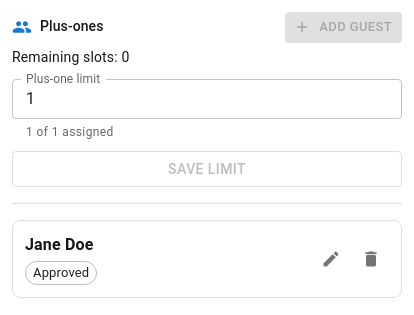
InvitationPlusOneSection › does not allow staff to lower the total below assigned plus-ones
Replace the text in the number field labelled "Plus-one limit" with "0" at (207, 99), box 12,79 -> 402,119
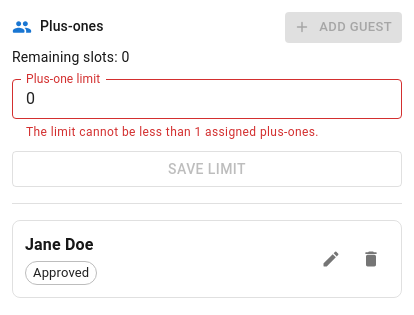
Expected: the button "Save limit" is disabled, 12,151 -> 402,187
Result: the text "The limit cannot be less than 1 assigned plus-ones." is shown at 26,125 -> 319,139
